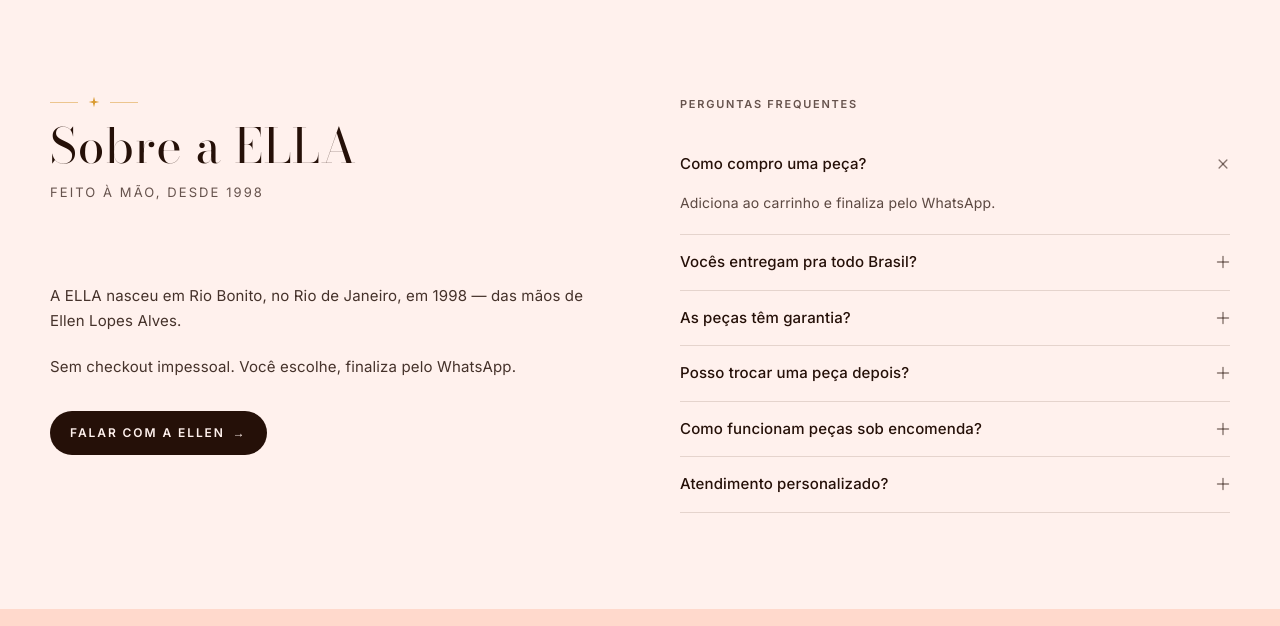
Test case: SobreNos › only one FAQ panel is open at a time
Click the button "Posso trocar uma peça depois?": (795, 373) [680,346,1230,401]
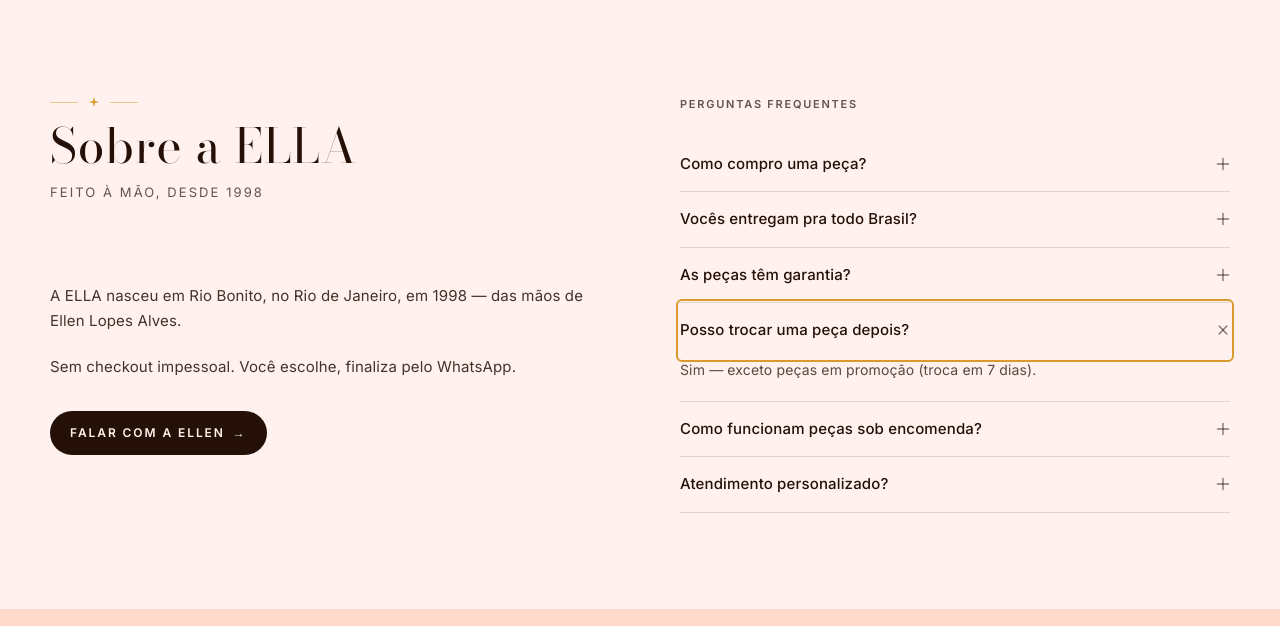
Now the button "Como compro uma peça?" is collapsed, box [680,136,1230,191]
Now the button "Posso trocar uma peça depois?" is expanded, box [680,303,1230,358]
